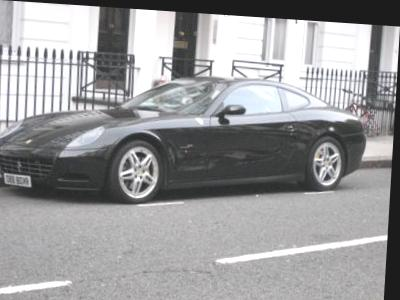License_Plate: (3, 172, 32, 188)
